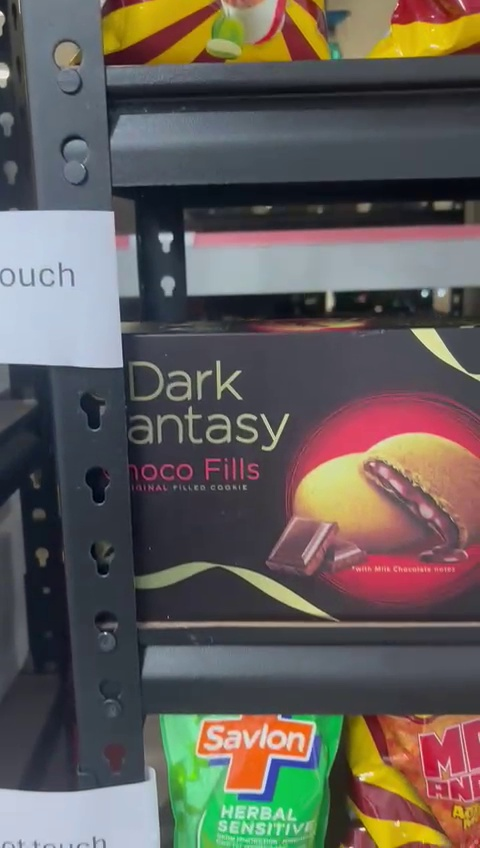Dark Fantasy: (124, 335, 480, 628)
